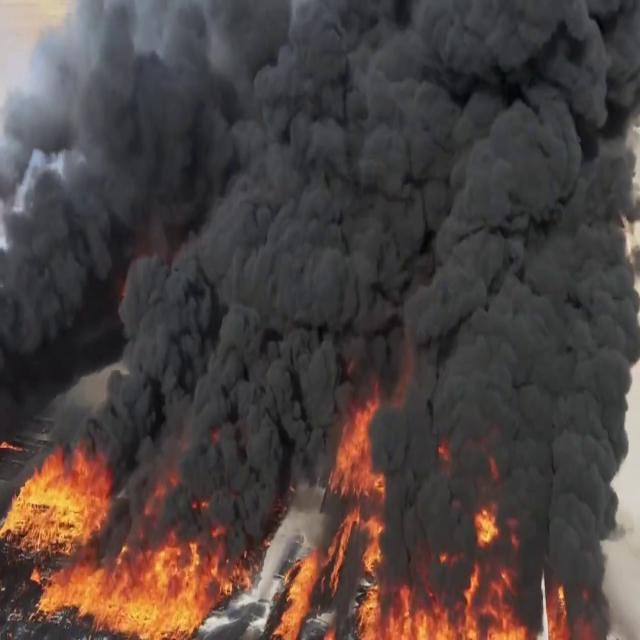Fire: (0, 444, 238, 630), (268, 400, 432, 638), (377, 516, 601, 640)
Smoke: (1, 0, 640, 444)
